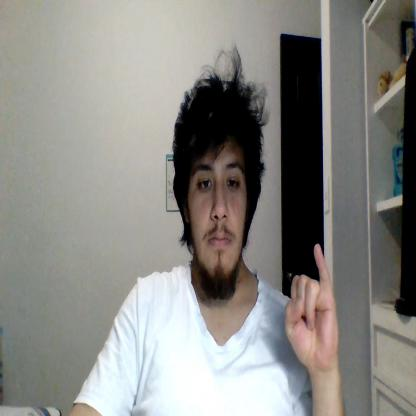I: (284, 244, 338, 367)
